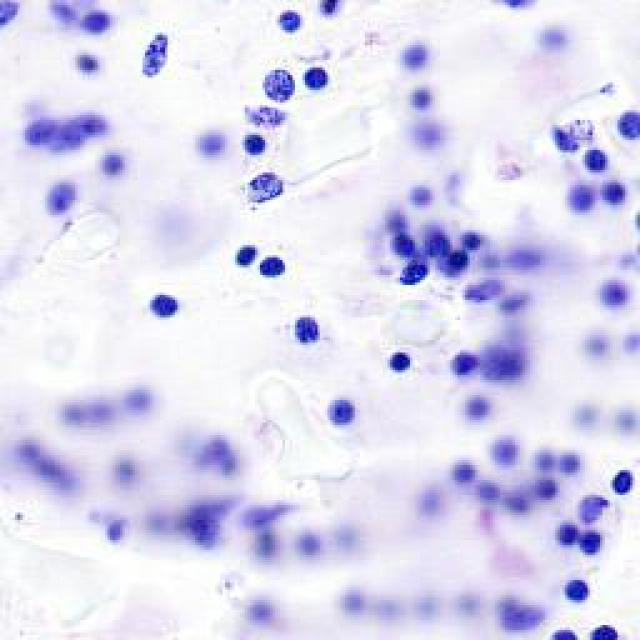cell: (12, 442, 81, 501), (24, 116, 114, 156), (282, 303, 332, 350), (195, 432, 240, 480), (34, 179, 87, 219), (254, 66, 304, 107), (243, 172, 294, 212), (138, 283, 185, 323), (236, 595, 286, 632), (436, 344, 484, 382), (82, 509, 134, 544), (415, 489, 457, 532), (249, 503, 280, 559), (139, 26, 173, 77), (296, 528, 336, 570), (506, 236, 546, 276), (122, 382, 166, 417), (238, 101, 294, 128), (179, 510, 225, 542), (298, 58, 335, 96), (501, 595, 539, 632), (556, 440, 590, 481), (90, 393, 119, 440), (484, 346, 521, 381), (453, 586, 493, 618), (489, 430, 524, 466), (508, 284, 537, 326), (536, 25, 578, 54), (105, 461, 149, 488), (330, 586, 367, 618), (325, 392, 358, 426), (88, 160, 144, 180), (232, 135, 284, 156), (194, 128, 228, 160), (409, 126, 454, 150), (86, 10, 120, 40), (428, 230, 458, 264), (575, 333, 609, 362), (388, 346, 418, 378), (586, 616, 626, 640), (383, 237, 426, 259), (229, 237, 260, 267), (398, 260, 430, 289), (389, 47, 433, 68), (552, 124, 585, 151), (408, 599, 439, 627), (460, 232, 496, 256), (262, 247, 288, 280), (581, 531, 611, 559), (505, 492, 535, 520), (467, 391, 493, 423), (562, 184, 596, 208), (408, 85, 445, 107), (550, 522, 577, 552), (600, 280, 631, 306), (450, 461, 479, 488), (78, 51, 102, 83), (407, 184, 441, 206), (614, 469, 638, 499), (616, 409, 636, 445), (317, 0, 357, 18), (560, 578, 591, 601), (458, 280, 497, 298), (276, 12, 304, 36), (532, 444, 556, 470), (604, 183, 631, 206), (620, 325, 640, 355), (586, 153, 615, 173), (46, 4, 77, 22), (530, 480, 561, 498), (384, 214, 412, 233), (551, 623, 582, 640), (499, 0, 534, 14), (579, 403, 599, 426), (482, 486, 496, 504)
